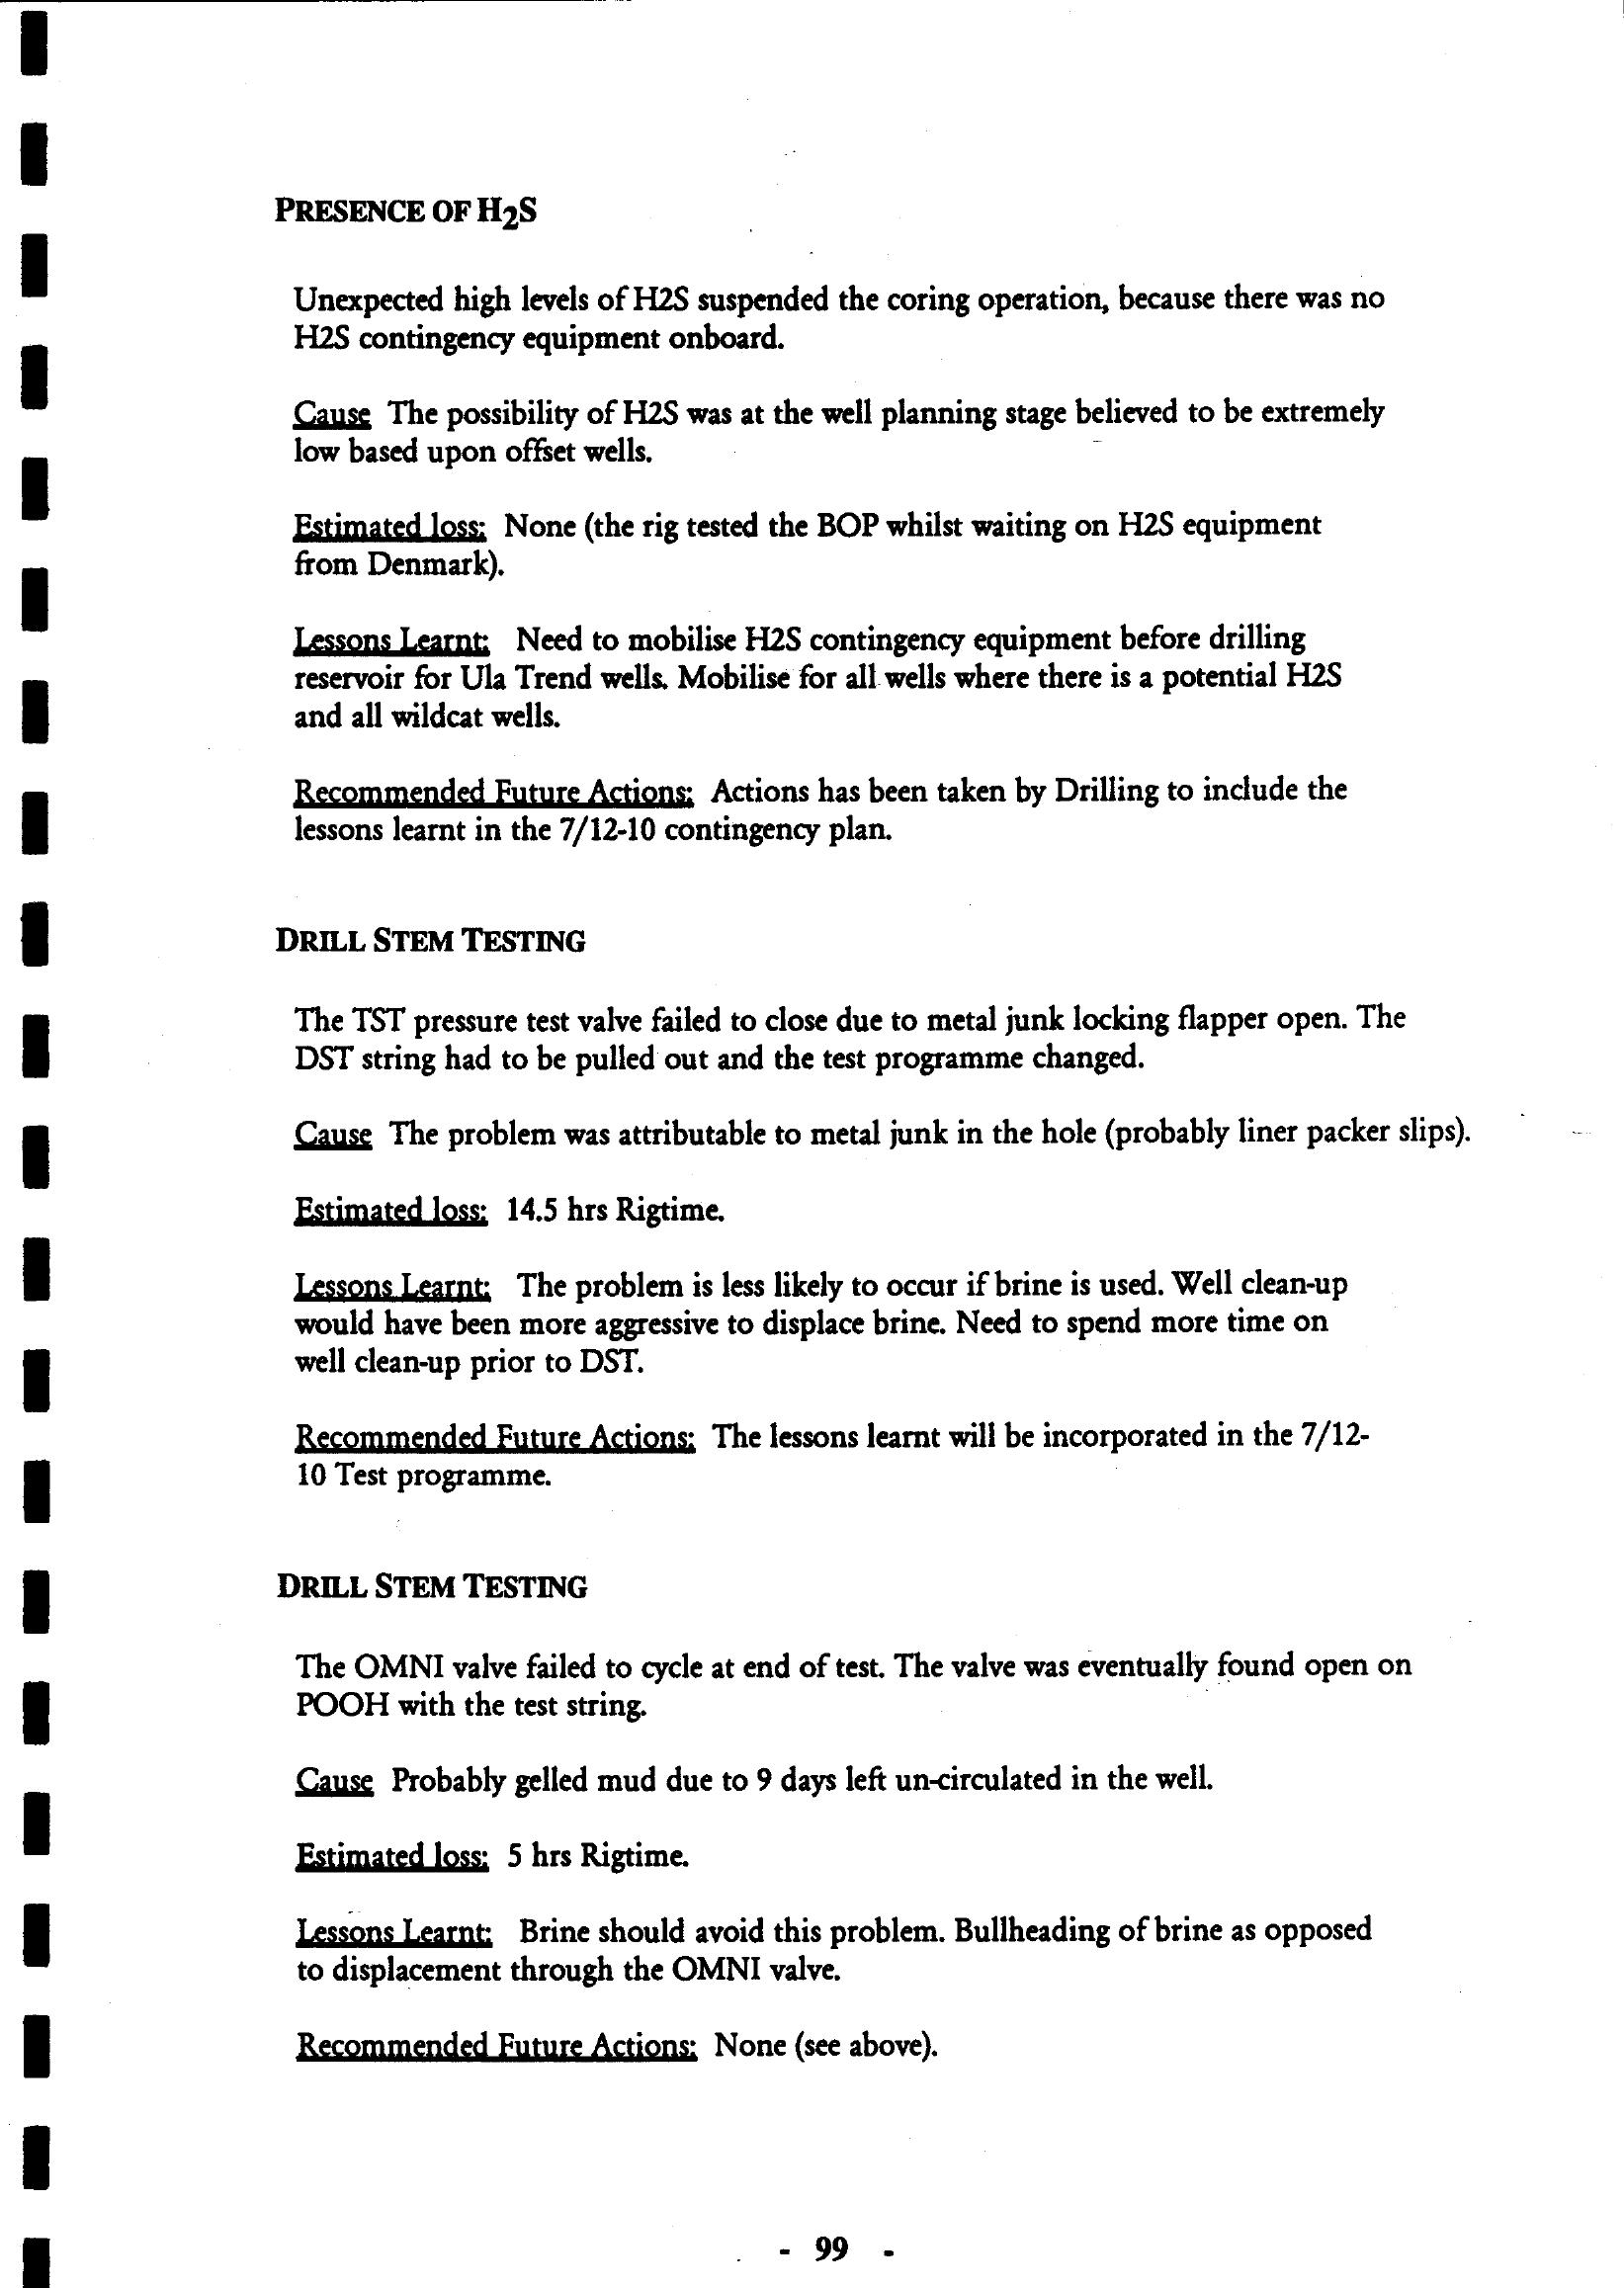text: (223, 153, 1499, 2116)
